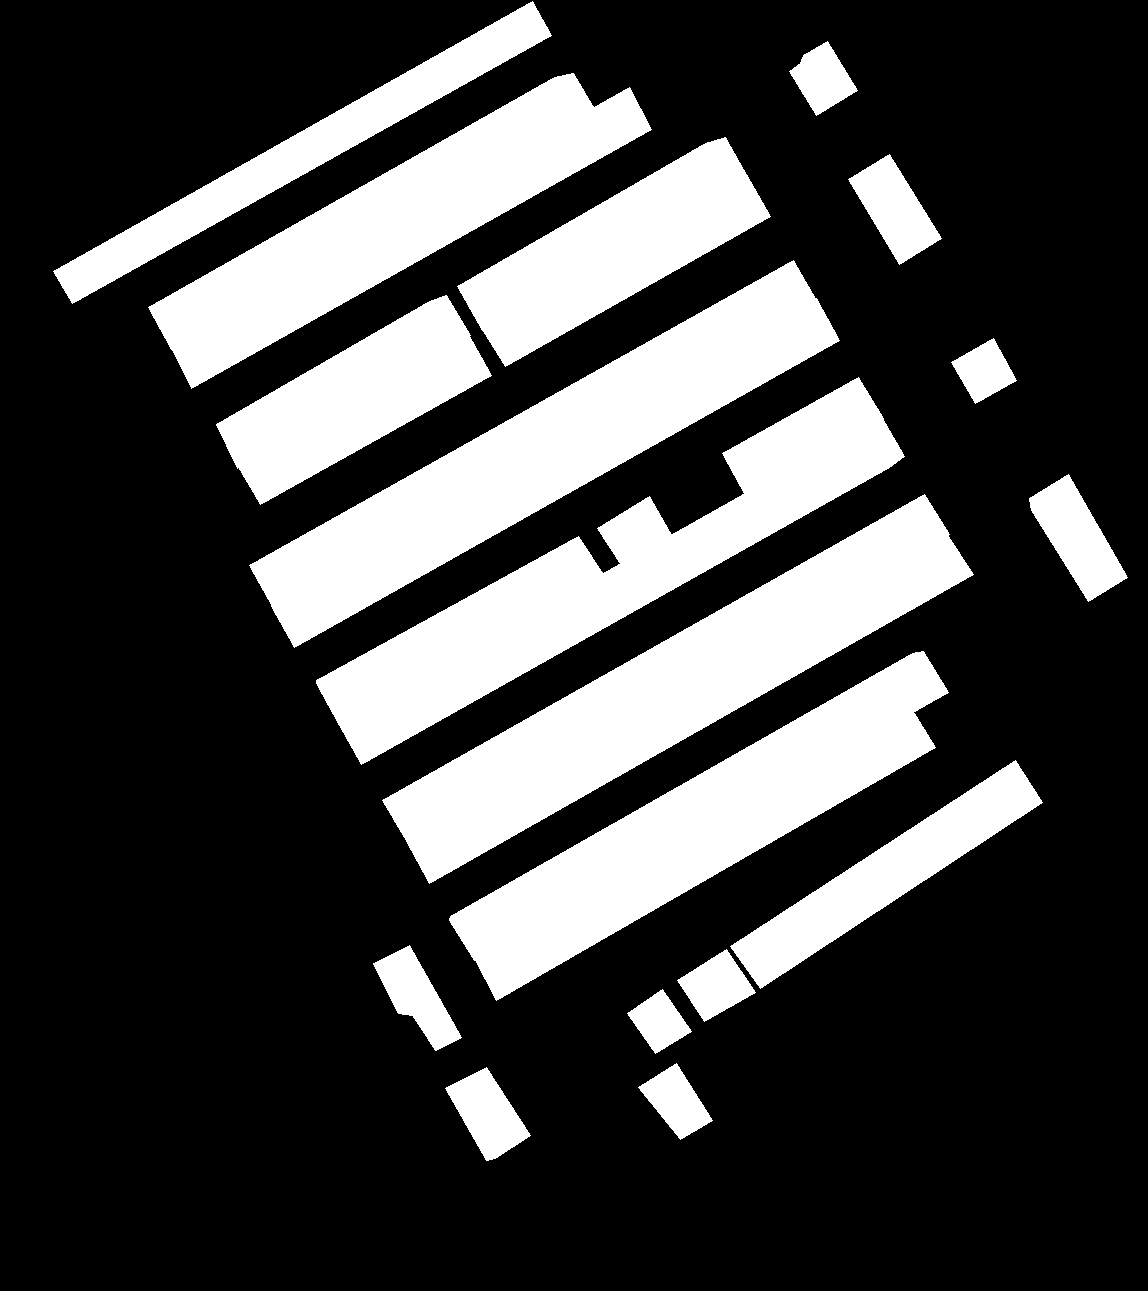parkingspot: (404, 533, 973, 883), (271, 298, 839, 647), (382, 494, 949, 842), (249, 260, 816, 608), (339, 416, 904, 764), (449, 650, 949, 960), (52, 1, 551, 303), (170, 88, 650, 388), (474, 708, 935, 1000), (147, 73, 595, 349), (730, 760, 1042, 988), (457, 137, 748, 330), (479, 174, 770, 366), (316, 536, 603, 725), (215, 295, 470, 468), (236, 332, 491, 504), (722, 377, 883, 496), (1029, 474, 1127, 601), (848, 154, 941, 264), (373, 944, 461, 1051), (445, 1067, 530, 1160), (638, 1063, 713, 1139), (677, 949, 755, 1021), (597, 496, 673, 565), (789, 41, 857, 115), (951, 338, 1016, 403), (627, 988, 691, 1053)
